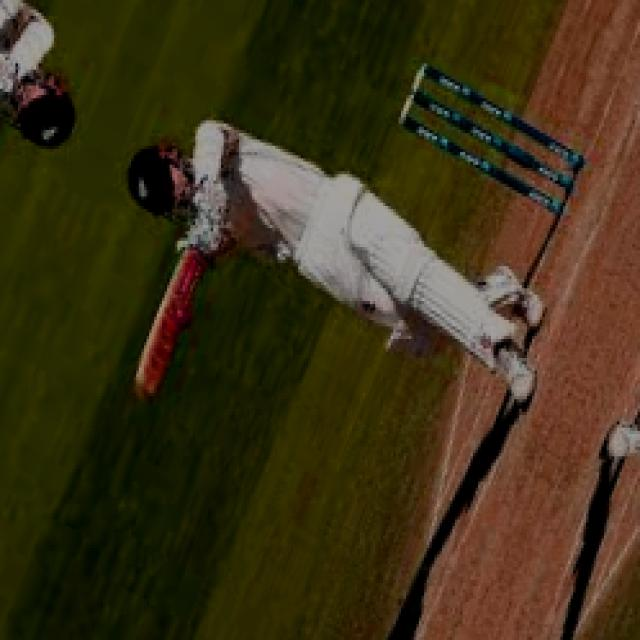toe: (132, 333, 164, 396)
